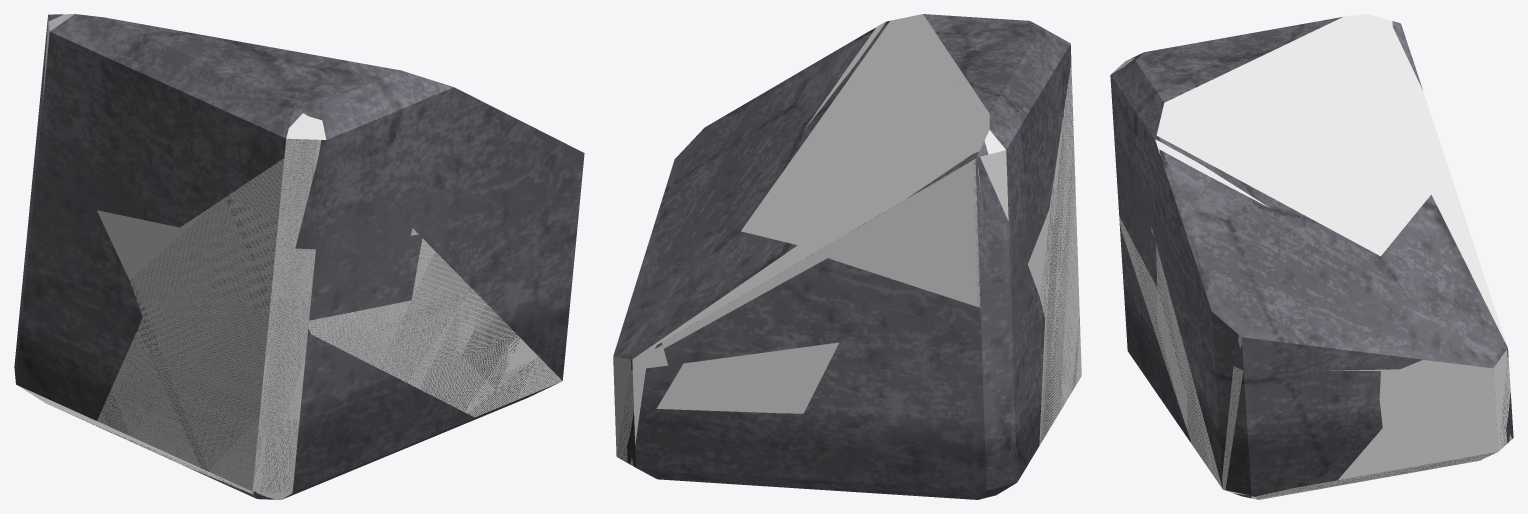
Rendered from chunk.webp.glb.
3 renders of one model, left to right at view 1: azimuth 30°, elevation 25°; view 2: azimuth 150°, elevation 25°; view 3: azimuth 270°, elevation 25°, orthographic. The views are drawn at different scales.
Visible parts, largest first — view 1: COL, LOD0_body, FRAC_2, FRAC_1, FRAC_0, FRAC_3; view 2: COL, FRAC_1, FRAC_2, FRAC_3, LOD0_body, FRAC_0; view 3: COL, FRAC_3, LOD0_body, FRAC_0, FRAC_2, FRAC_1.
Part boxes in pixels (x1,y1,x2,y2): COL: (17, 14, 569, 499); LOD0_body: (31, 14, 576, 499); FRAC_2: (32, 14, 447, 249); FRAC_1: (14, 190, 365, 499); FRAC_0: (309, 211, 578, 463); FRAC_3: (440, 85, 584, 219); COL: (613, 14, 1081, 466); FRAC_1: (632, 265, 1044, 499); FRAC_2: (664, 15, 1071, 365); FRAC_3: (613, 21, 889, 369); LOD0_body: (613, 14, 1079, 499); FRAC_0: (627, 363, 683, 464); COL: (1111, 14, 1511, 499); FRAC_3: (1152, 135, 1508, 370); LOD0_body: (1110, 37, 1510, 499); FRAC_0: (1115, 161, 1512, 498); FRAC_2: (1110, 17, 1422, 230); FRAC_1: (1119, 223, 1513, 438).
Size of the model in its own units: 0.7032 by 0.6 by 0.648.
1 material, 1 textured.
